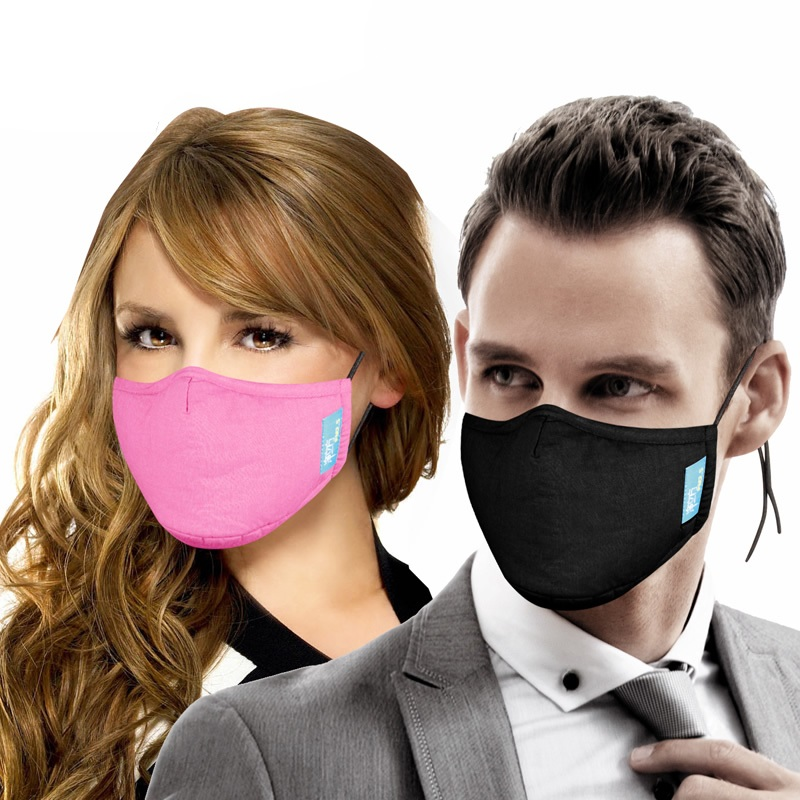face_mask: (454, 214, 724, 608), (107, 193, 365, 546)
